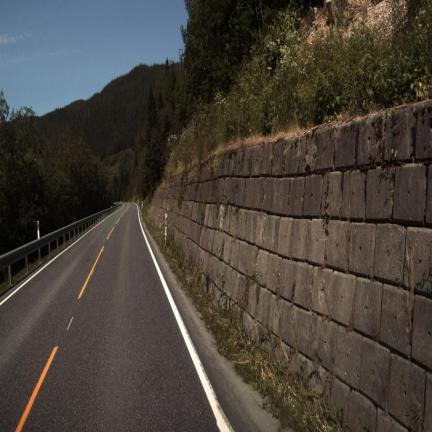Road: (0, 204, 229, 430)
